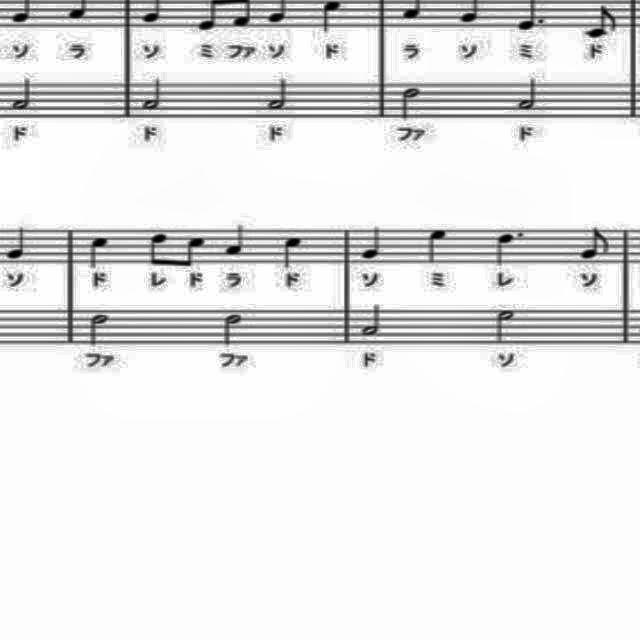Eighth-note: (584, 3, 620, 39), (580, 224, 612, 262), (178, 230, 206, 270), (145, 228, 169, 272)
Half-note: (512, 71, 544, 117), (395, 81, 425, 125), (356, 304, 388, 342), (83, 310, 113, 350), (138, 74, 166, 114), (494, 302, 518, 348), (266, 76, 294, 115), (8, 76, 36, 114), (220, 309, 248, 346)
Quarter-dot: (490, 224, 530, 268)
Quarter-note: (80, 233, 116, 271), (423, 224, 452, 270), (357, 223, 387, 267), (220, 222, 252, 260), (281, 232, 311, 270), (6, 221, 34, 261)
